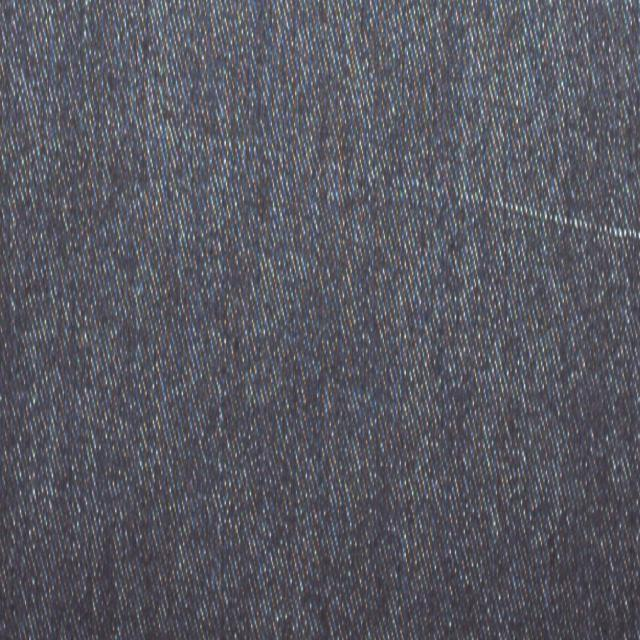Line: (59, 96, 640, 241)
